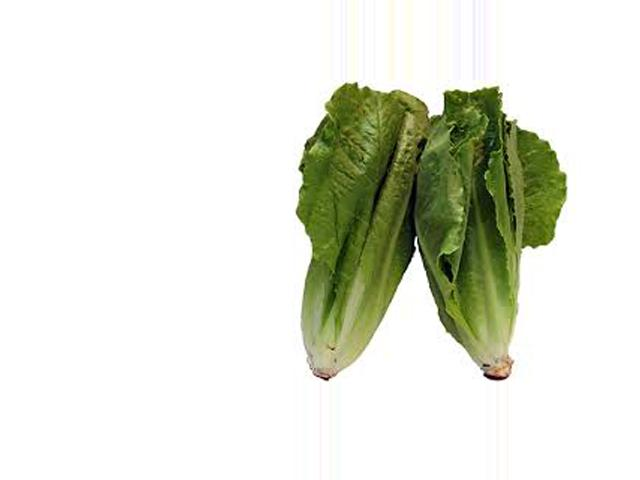lettuce: (281, 83, 536, 383)
